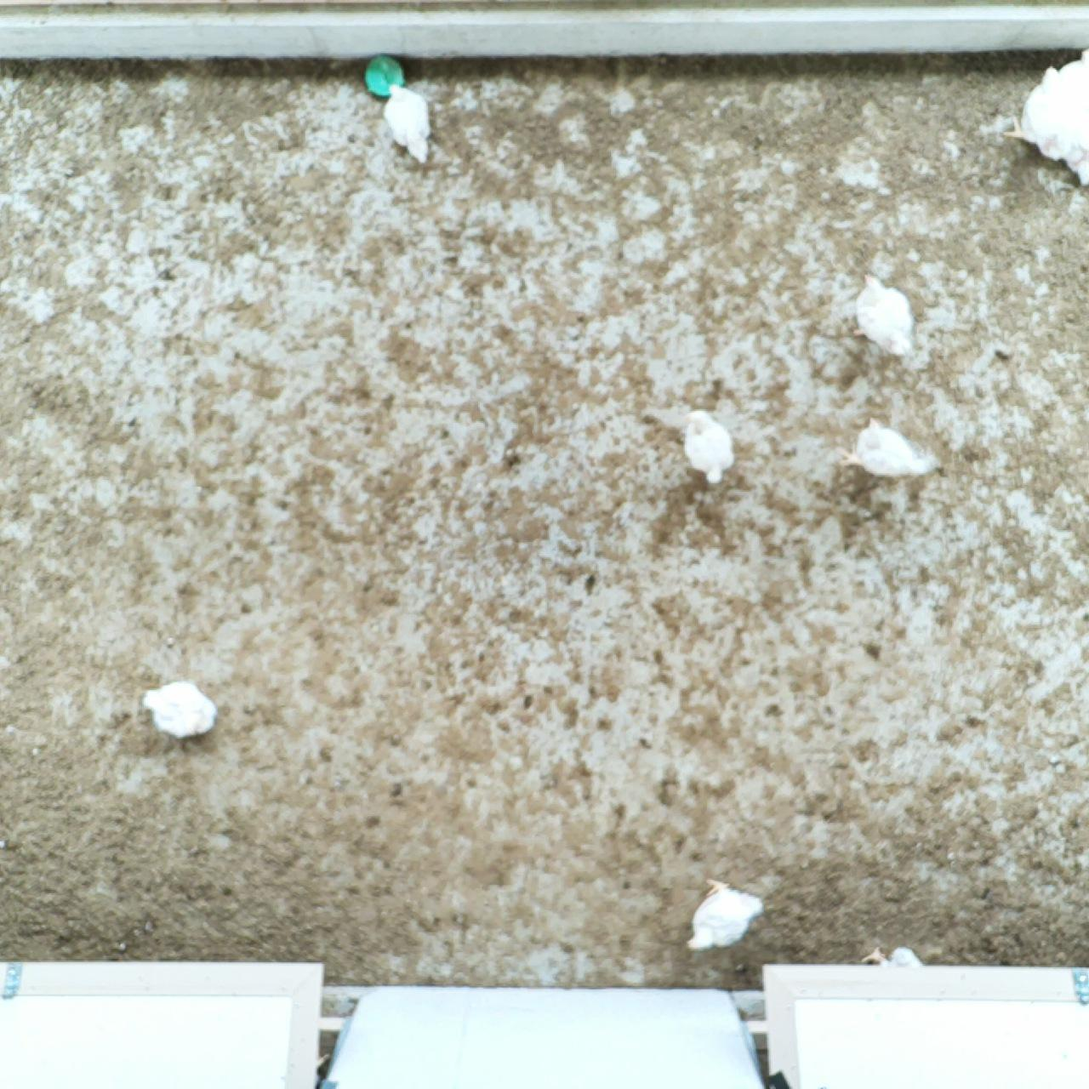chicken: (1004, 65, 1079, 165), (680, 871, 768, 956), (129, 677, 225, 746), (835, 413, 929, 483), (843, 271, 922, 354), (677, 402, 744, 487), (376, 80, 435, 167), (1053, 40, 1089, 124), (1055, 117, 1089, 189), (863, 939, 927, 975)
